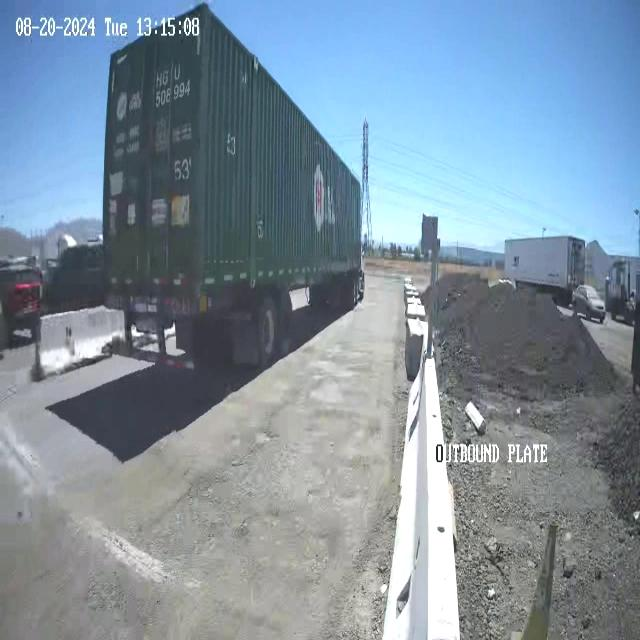TRUCK_CONTAINER: (101, 2, 365, 368)
